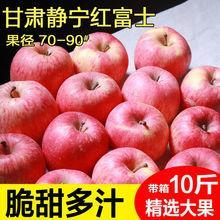apple: (41, 111, 108, 175), (105, 101, 169, 159), (10, 42, 75, 99), (56, 72, 124, 125), (1, 81, 58, 144), (122, 66, 180, 124), (134, 26, 192, 82), (72, 31, 129, 85), (92, 146, 159, 184), (1, 132, 47, 184), (170, 106, 220, 153), (181, 66, 220, 112)
